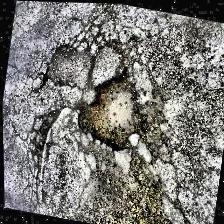pothole: (70, 65, 150, 155)
